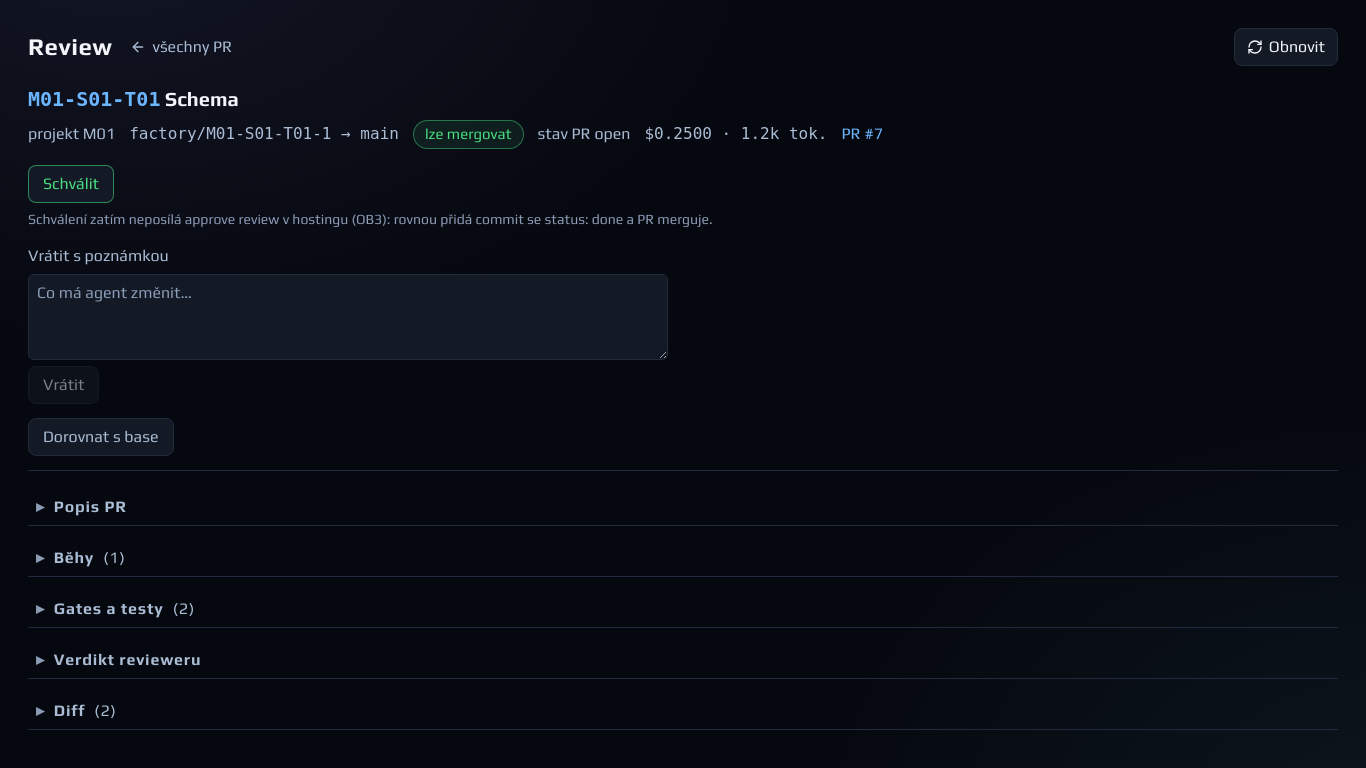
ReviewView › approves and reloads the detail
Expected: the icon next to "všechny PR" is shown, [130,39,146,55]
Expected: the link with test id "back" reads "všechny PR", [130,39,232,55]
Click the button with test id "approve" at x=71, y=184, box [28,164,114,202]
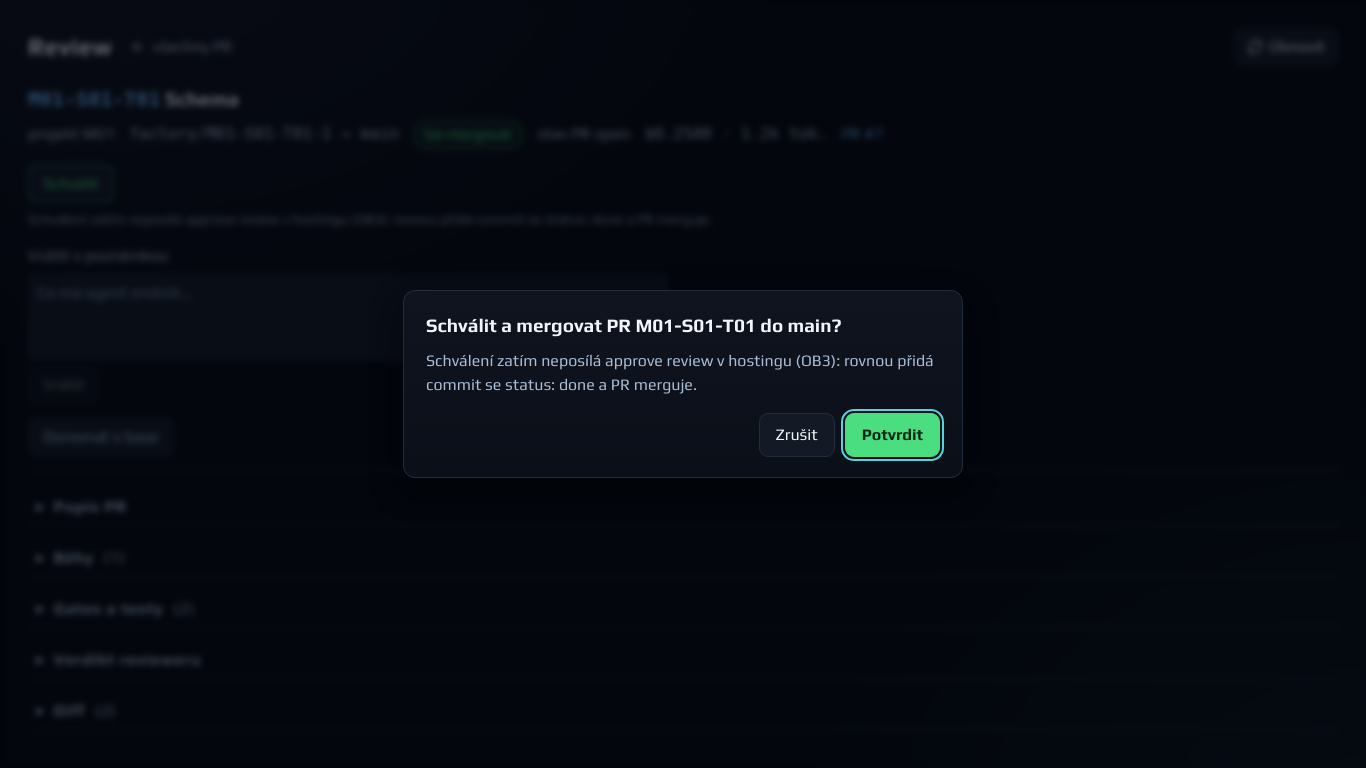
Click the button with test id "confirm-ok" at x=892, y=435, box [845,413,940,457]
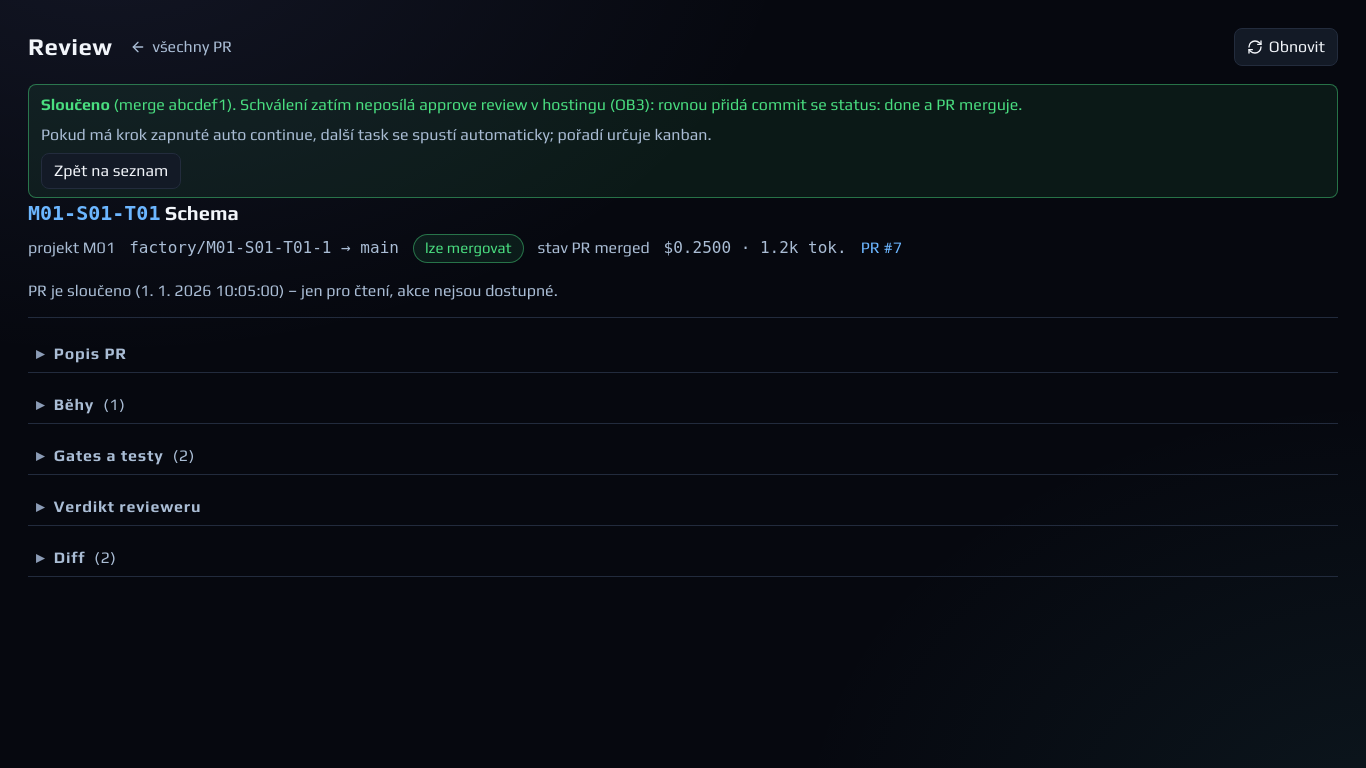
Now the element with test id "notice" shows "Sloučeno (merge abcdef1)", box [41,95,1022,114]
Now the element with test id "notice" shows "OB3", box [232,95,1022,114]
Now the element with test id "merged" shows "pořadí určuje kanban", box [41,125,712,144]
